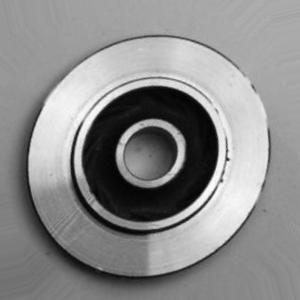defect: (202, 81, 240, 196)
